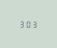three: (18, 19, 23, 27), (31, 20, 36, 28)
zero: (25, 19, 30, 28)
